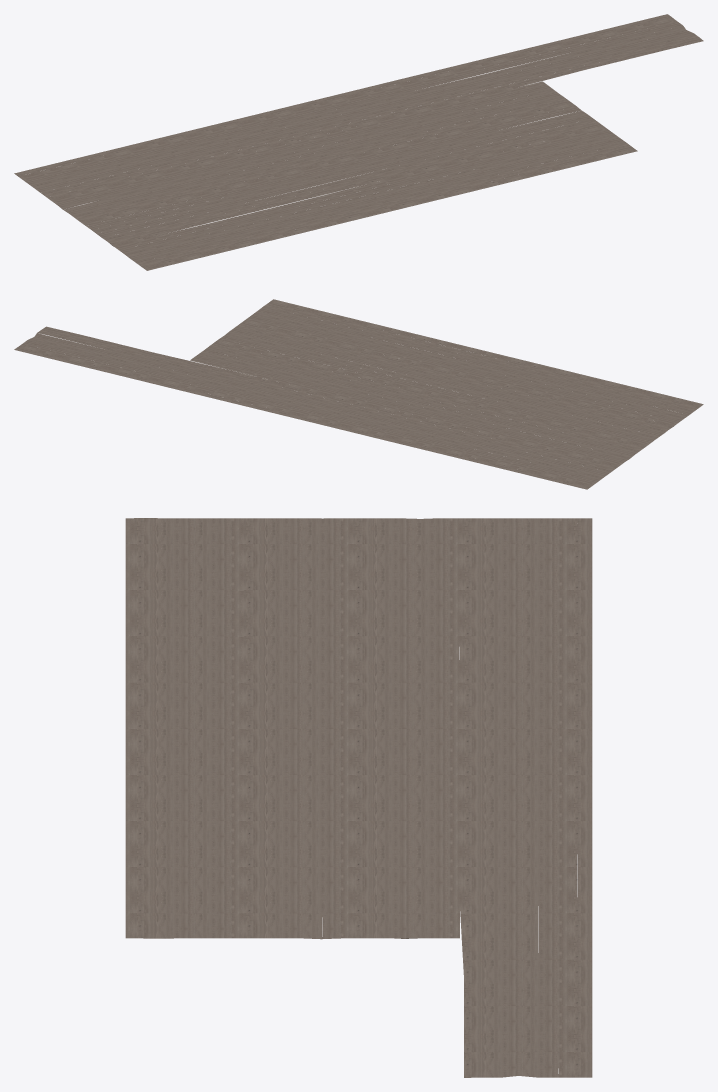
Rendered from baking_7.glb.
3 renders of one model, top to bottom at view 1: azimuth 30°, elevation 25°; view 2: azimuth 150°, elevation 25°; view 3: azimuth 270°, elevation 25°, orthographic. The views are drawn at different scales.
Visible parts, largest first — view 1: StaticMeshActor_29_001; view 2: StaticMeshActor_29_001; view 3: StaticMeshActor_29_001.
Part boxes in pixels (bbox=[...]): StaticMeshActor_29_001: bbox=[14, 14, 703, 270]; StaticMeshActor_29_001: bbox=[14, 299, 703, 489]; StaticMeshActor_29_001: bbox=[125, 518, 592, 1077].
Bounding box in the file's own units: 12.12 × 0.0105 × 4.27.
Materials: 1 (1 with a texture image).
